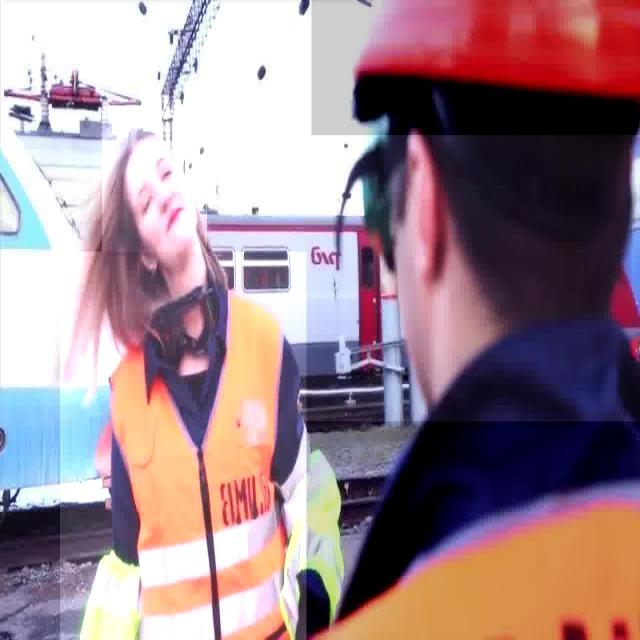Helmet: (311, 0, 640, 135), (102, 99, 207, 297)
Safety Vest: (59, 251, 306, 640), (301, 421, 640, 639)
